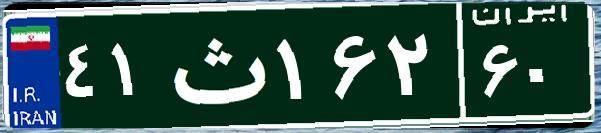0: (525, 38, 570, 115)
1: (273, 28, 330, 110), (110, 28, 158, 105)
2: (385, 28, 445, 110)
4: (57, 26, 110, 107)
6: (330, 28, 385, 110), (475, 38, 525, 113)
ث: (158, 15, 273, 115)
